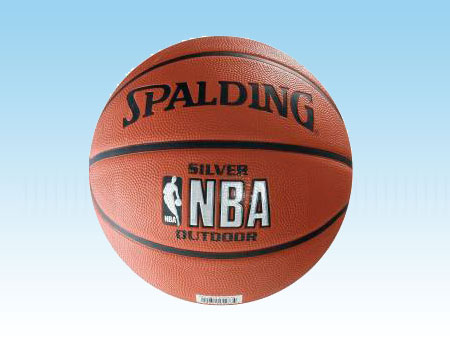basketball: (89, 35, 353, 304)
